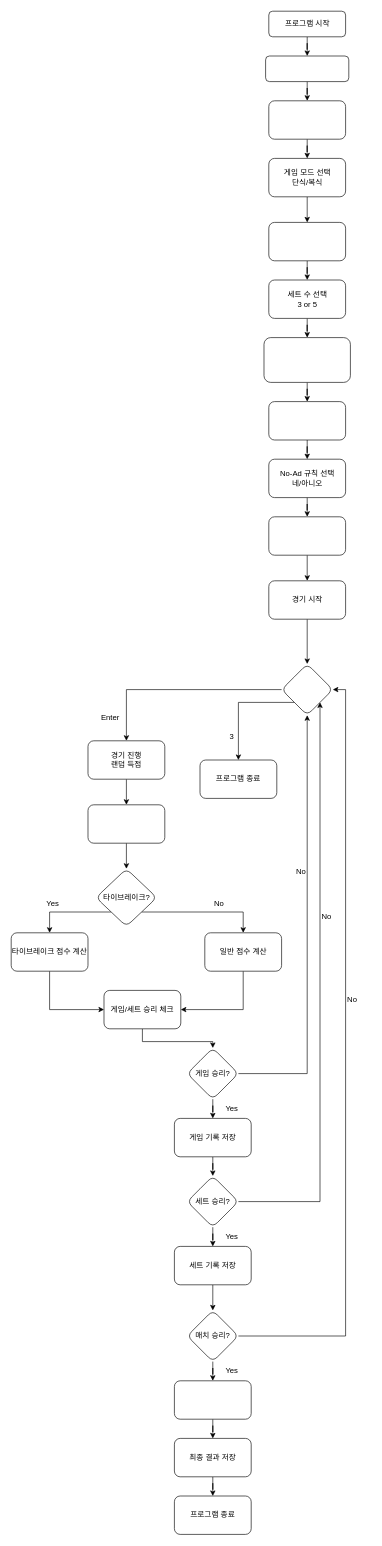
The diagram is 382 pixels wide and 1546 high, and some of its shapes have lost their labels. Here are the shapes that lost their labels. From the top down, the centre of each, then its label:
[307,68]: 게임 설정 입력
[307,119]: 성별 선택 남자/여자
[307,241]: 플레이어 이름 입력
[306,359]: 타이브레이크 모드 선택 0=미적용, 1= 전체, 2= 마지막만
[307,420]: 타이브레이크 포인트 입력 7 or 10
[307,535]: ScoreBoard 생성
[307,689]: 선택 옵션
[126,823]: 득점 처리
[212,1399]: 전체 요약보고서 저장
